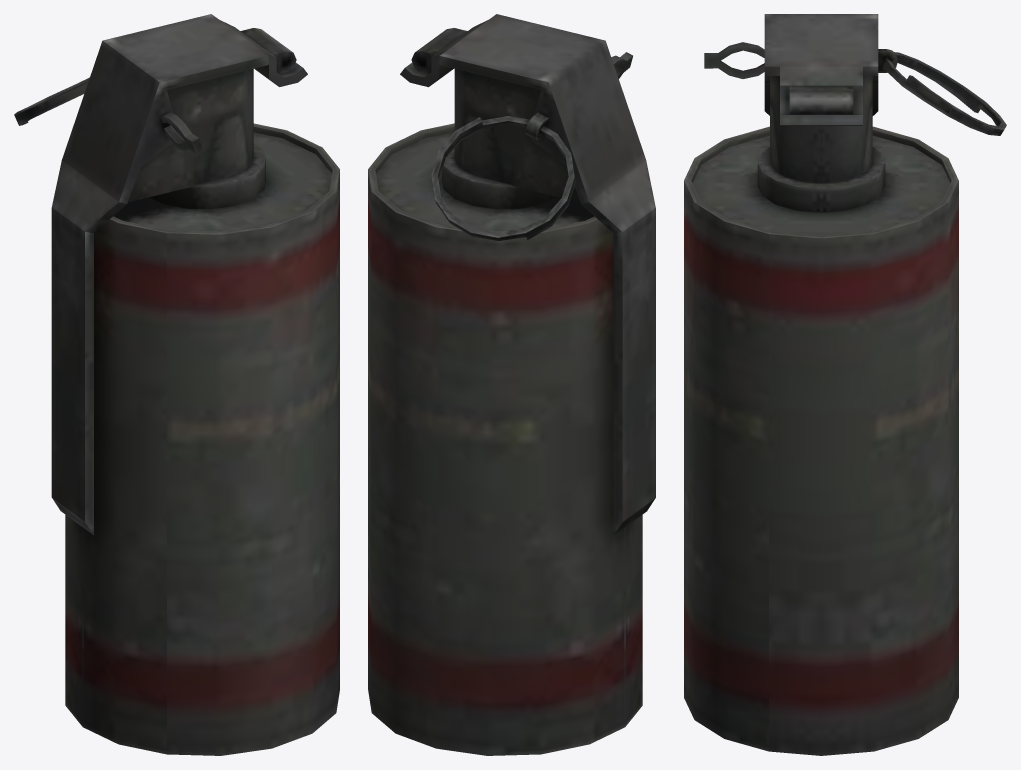
Rendered from CS_Gas.obj.
The picture shows the model from 3 angles, left to right: view 1: azimuth 30°, elevation 25°; view 2: azimuth 150°, elevation 25°; view 3: azimuth 270°, elevation 25°; orthographic projection.
Visible parts, largest first — view 1: Model_SmokeGrenade; view 2: Model_SmokeGrenade; view 3: Model_SmokeGrenade.
Part boxes in pixels (x1,y1,x2,y2): Model_SmokeGrenade: (14, 14, 339, 755); Model_SmokeGrenade: (368, 14, 655, 755); Model_SmokeGrenade: (684, 14, 1006, 755).
Size of the model in its own units: 0.0525 by 0.1293 by 0.0583.
1 material, 1 textured.
